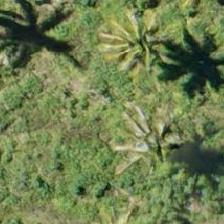coconut_tree: (98, 93, 188, 183)
